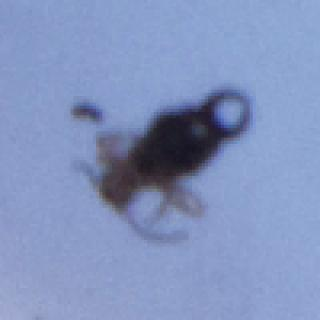earwig: (67, 85, 257, 242)
